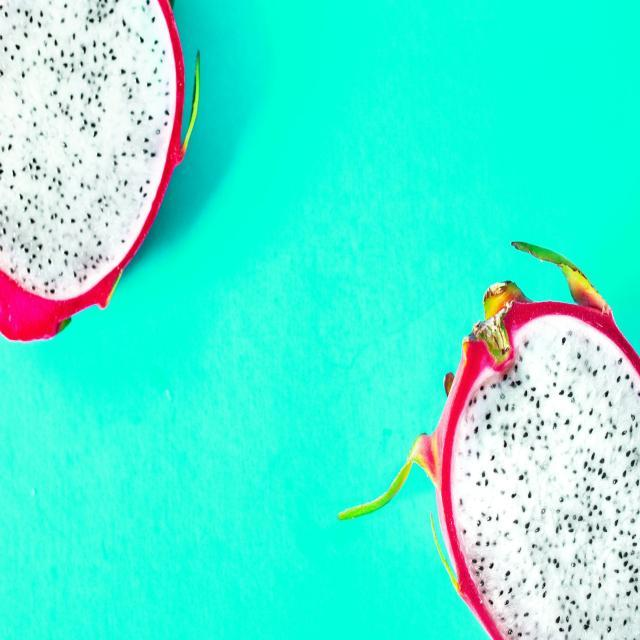dragon-fruit: (434, 299, 640, 640), (0, 0, 187, 316)
